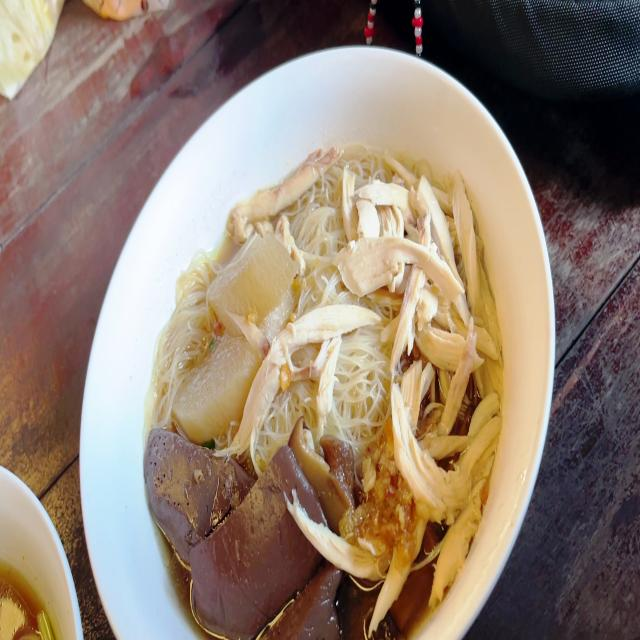boiled_chicken_blood_jelly: (158, 446, 357, 632)
chicken_shredded: (388, 170, 503, 507), (229, 146, 335, 245), (287, 499, 397, 590)
daikon_radish: (184, 238, 279, 439)
noodle: (140, 132, 502, 640), (0, 514, 66, 640)
